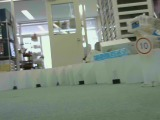speed_10: (133, 36, 152, 56)
